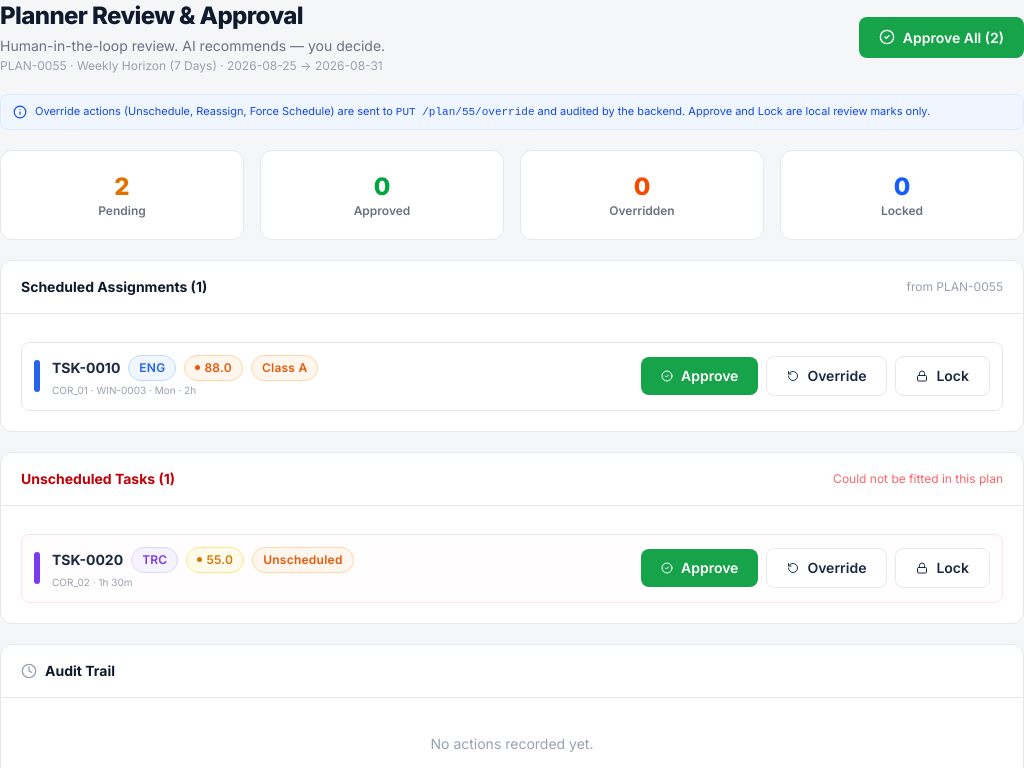
it: ReviewPage — Validation failure › shows character count feedback in the modal
Expected: the text "TSK-0010" is shown, 52,358 -> 120,378
Click the button "Override" in the row of "Class A": (827, 376) 766,356 -> 887,396
(page scrolled)
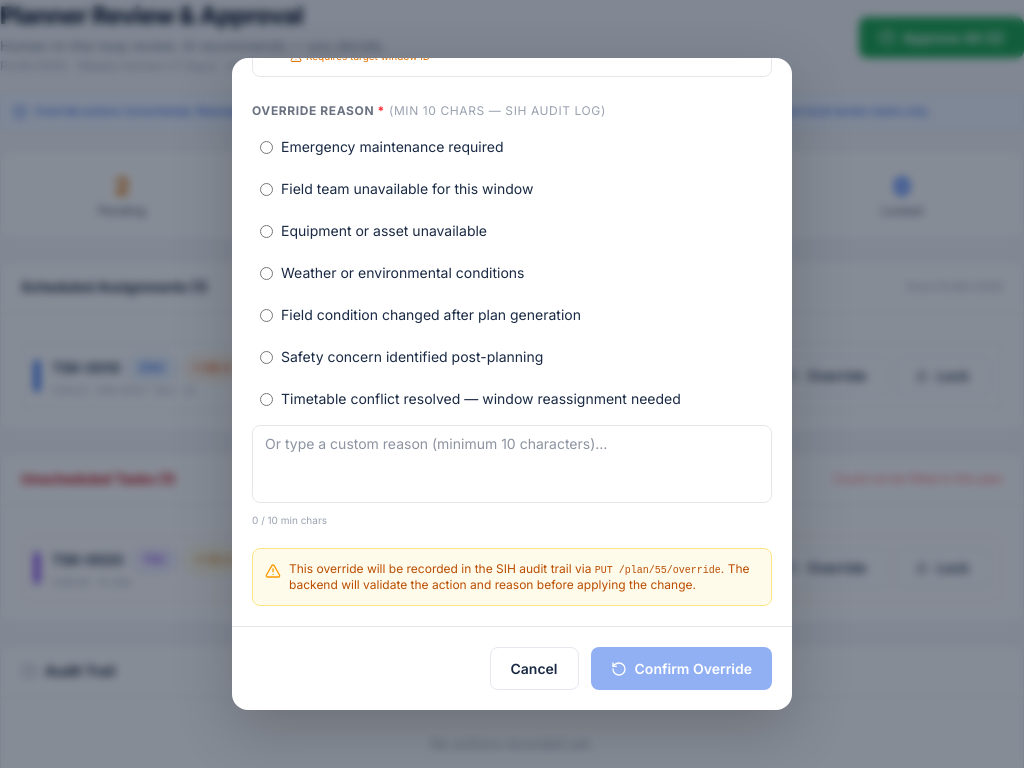
Expected: the element with id "override-modal" is shown, 232,58 -> 792,710
Expected: the text "0 / 10 min chars" is shown, 252,513 -> 327,528
